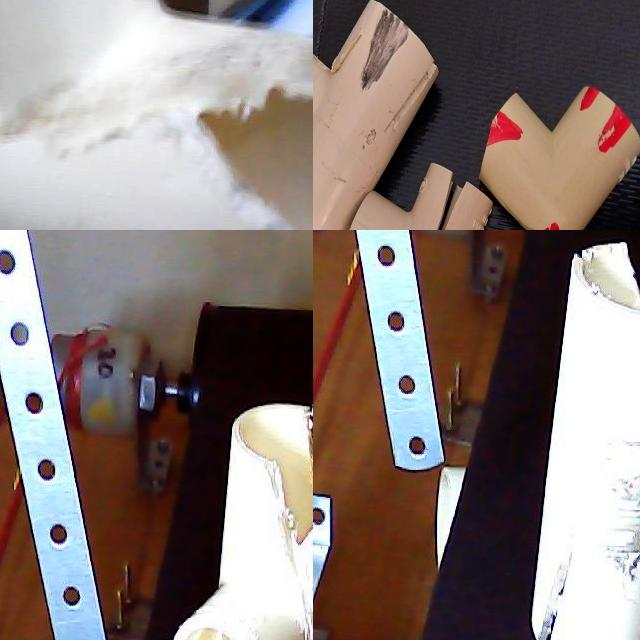Defective: (150, 4, 313, 230), (246, 435, 313, 579), (534, 505, 599, 640), (601, 379, 640, 595), (577, 245, 640, 335), (295, 391, 313, 503), (285, 575, 313, 640)
T Joint: (529, 243, 640, 640), (173, 404, 313, 640)
